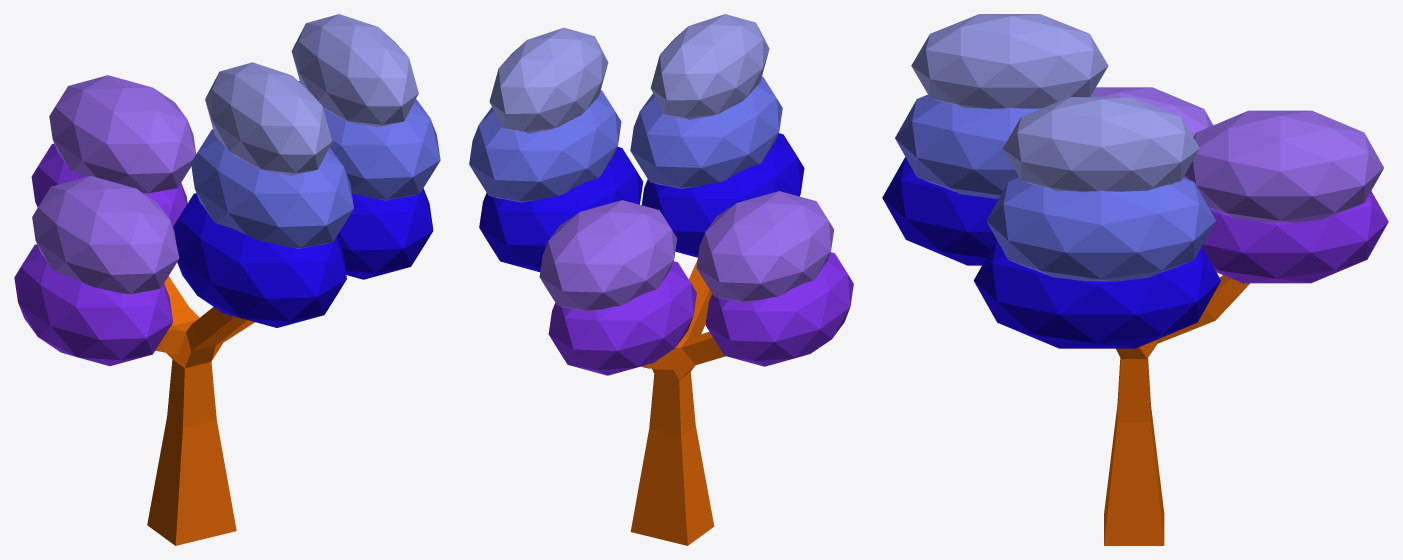
Rendered from Tree.fbx.
The picture shows the model from 3 angles, left to right: view 1: azimuth 30°, elevation 25°; view 2: azimuth 150°, elevation 25°; view 3: azimuth 270°, elevation 25°; orthographic projection. The views are drawn at different scales.
Visible parts, largest first — view 1: Cube, Icosphere.005, Icosphere.007, Icosphere.001, Icosphere.004, Icosphere.006, Icosphere.003, Icosphere.008, Icosphere.009, Icosphere.010, Icosphere; view 2: Cube, Icosphere.001, Icosphere.007, Icosphere.009, Icosphere.004, Icosphere.006, Icosphere, Icosphere.003, Icosphere.008, Icosphere.010, Icosphere.005; view 3: Icosphere.009, Icosphere.001, Icosphere.010, Icosphere.008, Icosphere.003, Icosphere, Cube, Icosphere.004, Icosphere.005, Icosphere.007.
Boxes of the visible parts, x1,y1,x2,y2 form: Cube: (147, 276, 254, 545); Icosphere.005: (173, 193, 346, 327); Icosphere.007: (32, 176, 179, 294); Icosphere.001: (49, 75, 195, 193); Icosphere.004: (191, 129, 353, 248); Icosphere.006: (14, 244, 172, 366); Icosphere.003: (205, 62, 332, 175); Icosphere.008: (291, 14, 418, 127); Icosphere.009: (298, 81, 440, 200); Icosphere.010: (337, 188, 433, 279); Icosphere: (31, 143, 187, 226); Cube: (630, 260, 725, 545); Icosphere.001: (539, 200, 677, 311); Icosphere.007: (696, 191, 834, 302); Icosphere.009: (469, 90, 621, 202); Icosphere.004: (630, 76, 782, 188); Icosphere.006: (705, 252, 853, 366); Icosphere: (548, 261, 696, 375); Icosphere.003: (650, 14, 769, 119); Icosphere.008: (489, 27, 608, 133); Icosphere.010: (479, 147, 643, 272); Icosphere.005: (641, 133, 804, 257); Icosphere.009: (986, 177, 1215, 281); Icosphere.001: (1183, 110, 1383, 222); Icosphere.010: (973, 240, 1220, 348); Icosphere.008: (1002, 97, 1199, 191); Icosphere.003: (911, 14, 1108, 108); Icosphere: (1202, 191, 1388, 283); Cube: (1104, 275, 1249, 545); Icosphere.004: (895, 94, 1097, 198); Icosphere.005: (882, 157, 998, 265); Icosphere.007: (1092, 87, 1212, 136).
Bounding box in the file's own units: 958 × 1190 × 1044.
